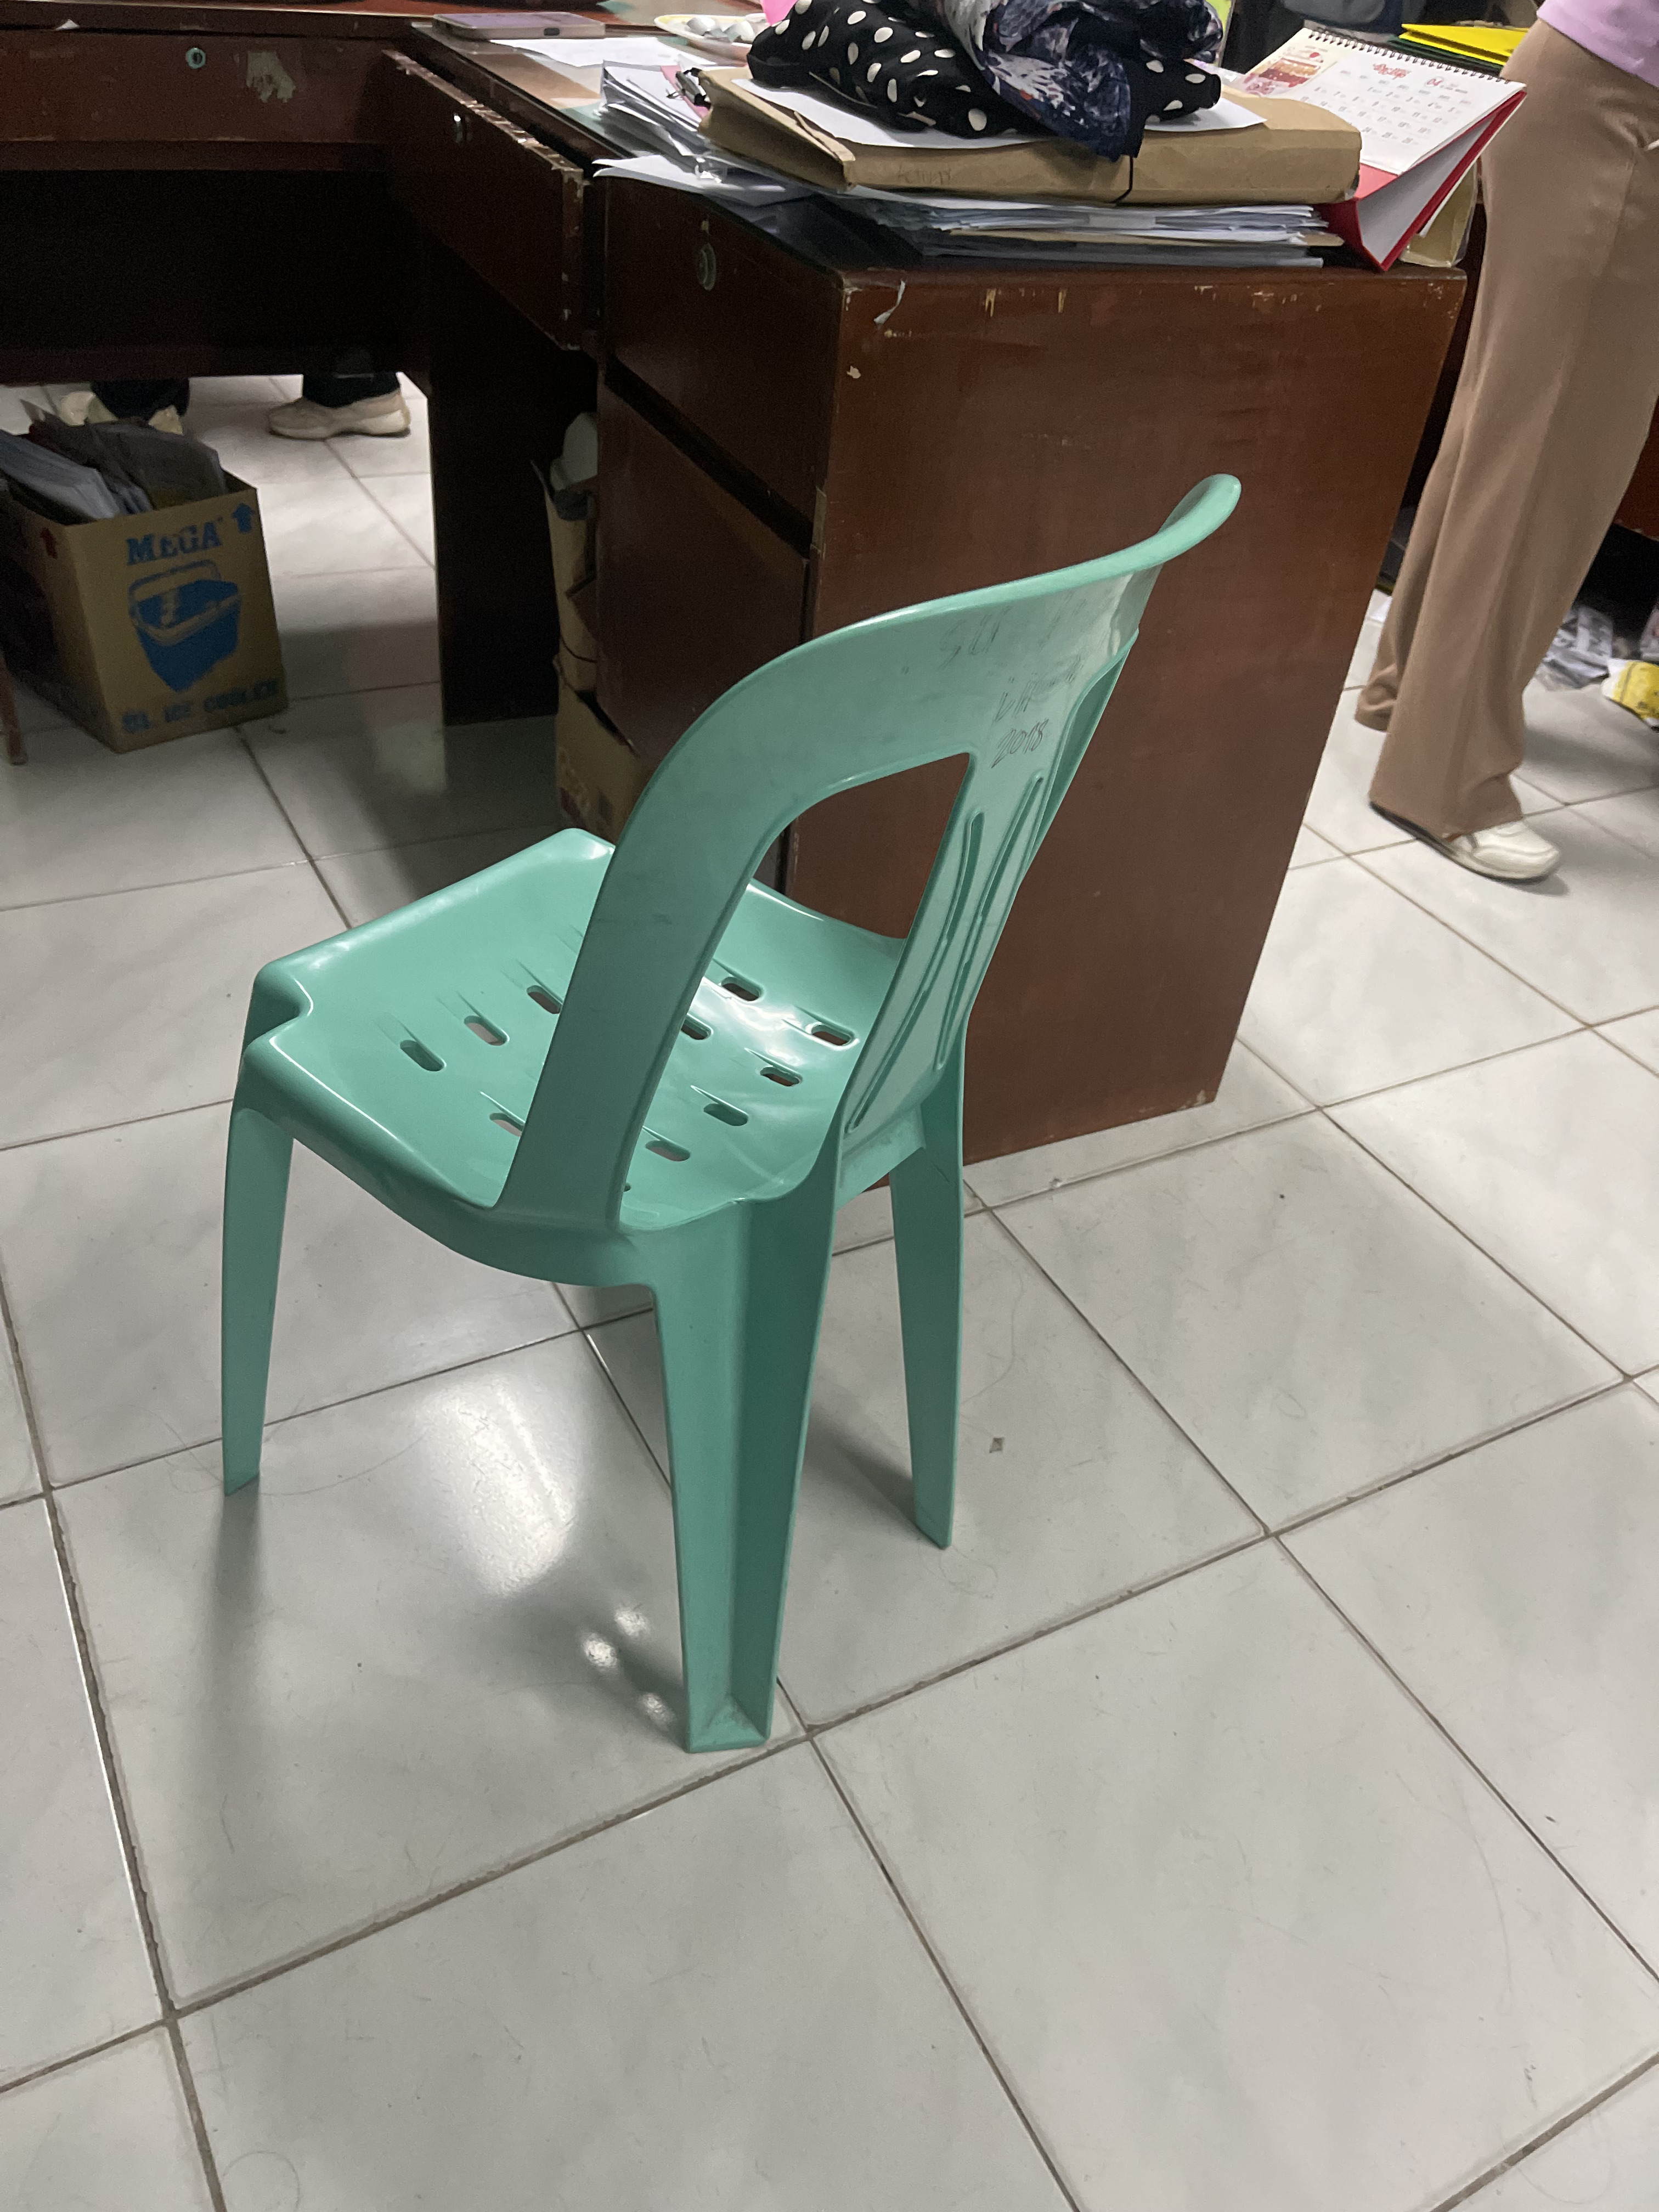chair2: (199, 460, 1258, 1766)
